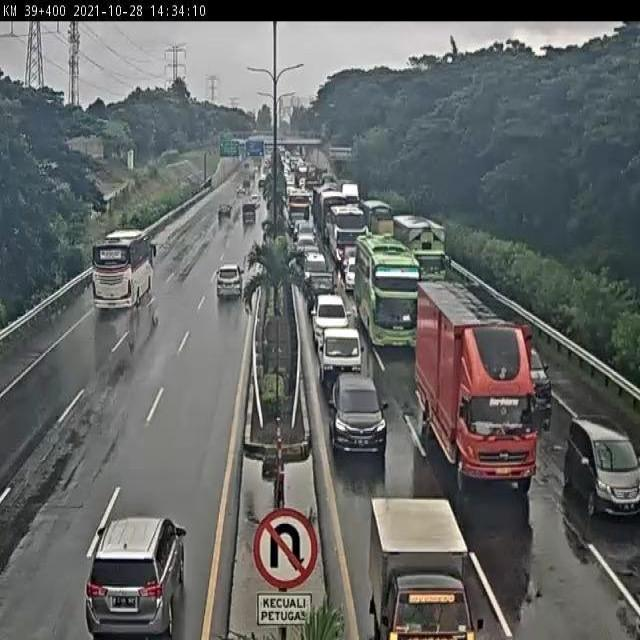bus-l-: (356, 241, 417, 347), (92, 233, 154, 310), (330, 208, 366, 265)
car: (561, 423, 640, 513), (328, 371, 385, 449), (504, 337, 550, 411), (322, 328, 365, 380), (311, 297, 350, 336), (303, 269, 336, 304), (216, 264, 245, 300), (303, 250, 328, 270), (342, 252, 357, 285), (297, 234, 317, 258), (293, 218, 316, 238)
truck-l-: (420, 287, 535, 476), (392, 216, 453, 292)
